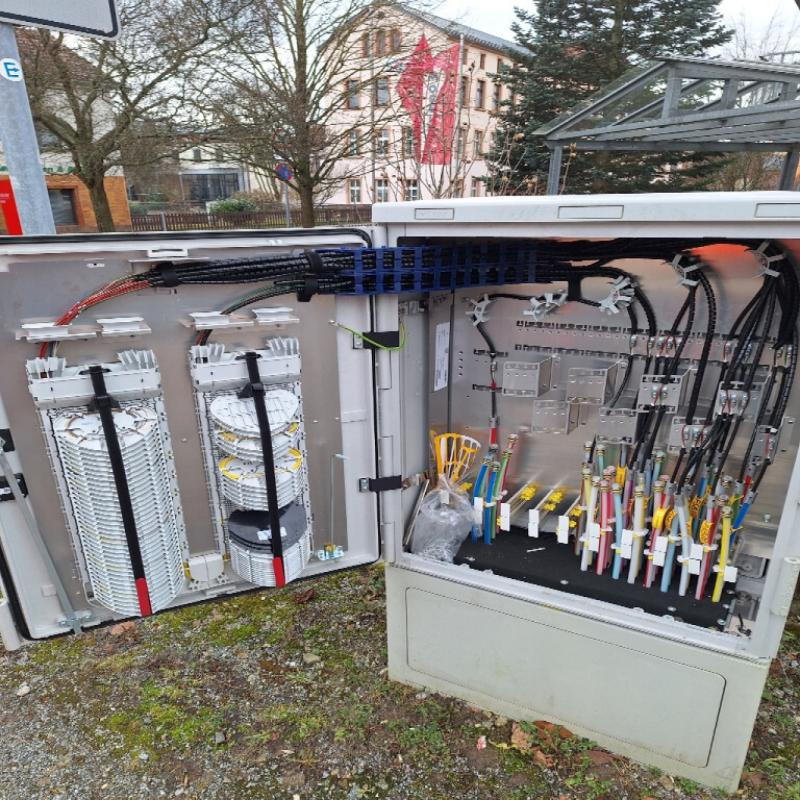NT-Gehause: (0, 197, 800, 793)
Spleiskassetten: (19, 314, 204, 618), (181, 306, 321, 585)
